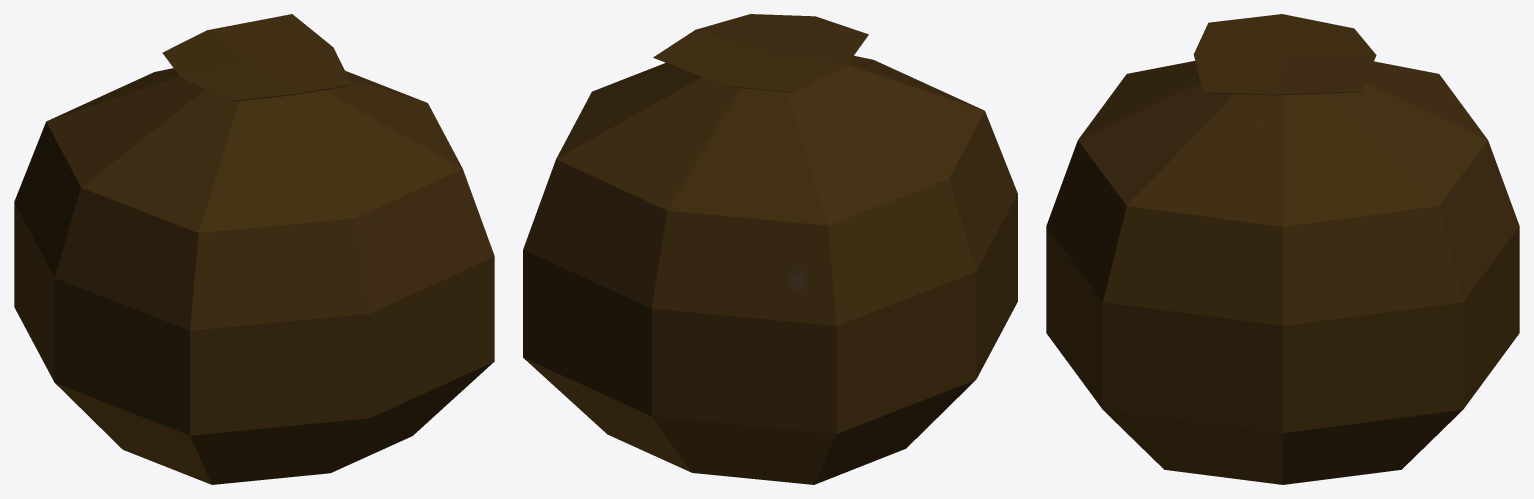
File: Pouch.fbx
3 renders of one model, left to right at view 1: azimuth 30°, elevation 25°; view 2: azimuth 150°, elevation 25°; view 3: azimuth 270°, elevation 25°, orthographic. The views are drawn at different scales.
Parts seen in each view (by area): view 1: Cube; view 2: Cube; view 3: Cube.
Part boxes in pixels (box(x1,y1,x2,y2)): Cube: box(14, 14, 494, 484); Cube: box(523, 14, 1017, 484); Cube: box(1046, 14, 1519, 484).
Size of the model in its own units: 200 by 181 by 200.
